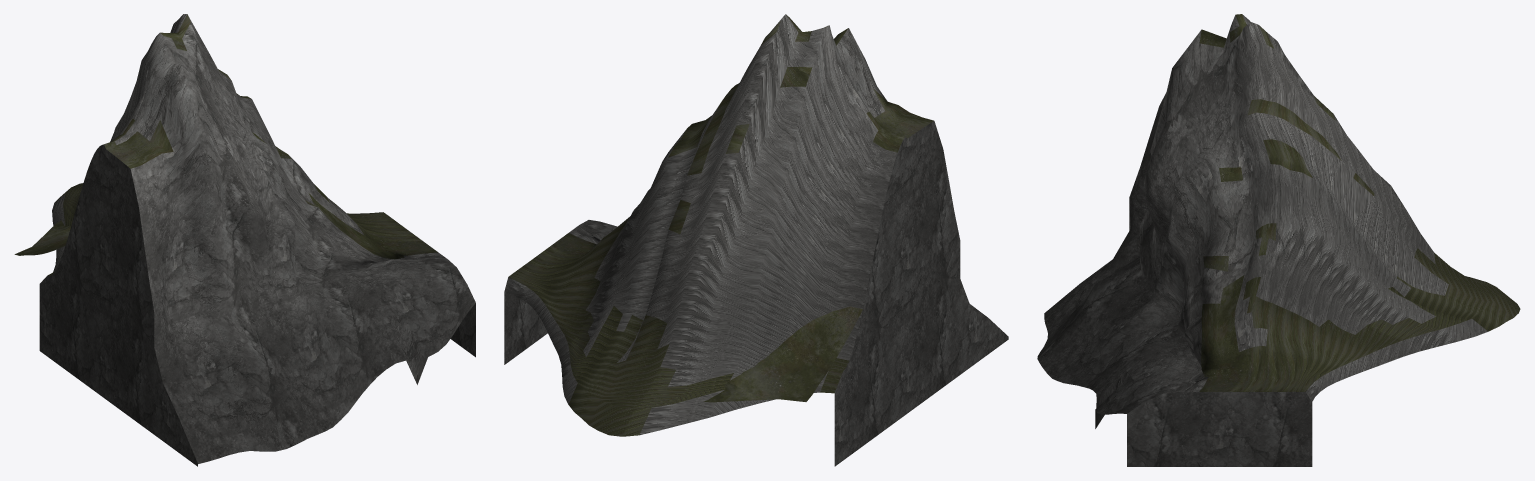
The model's file is seacliff_endcap_right_h3_b_v5_summer.glb.
3 renders of one model, left to right at view 1: azimuth 30°, elevation 25°; view 2: azimuth 150°, elevation 25°; view 3: azimuth 270°, elevation 25°, orthographic. The views are drawn at different scales.
Parts seen in each view (by area): view 1: seacliff_endcap_right_h3_b; view 2: seacliff_endcap_right_h3_b; view 3: seacliff_endcap_right_h3_b.
Boxes of the visible parts, box(x1,y1,x2,y2) form: seacliff_endcap_right_h3_b: box(14, 14, 475, 466); seacliff_endcap_right_h3_b: box(504, 14, 1008, 466); seacliff_endcap_right_h3_b: box(1037, 14, 1520, 466).
Size of the model in its own units: 6 by 6.31 by 8.11.
2 materials, 2 textured.
